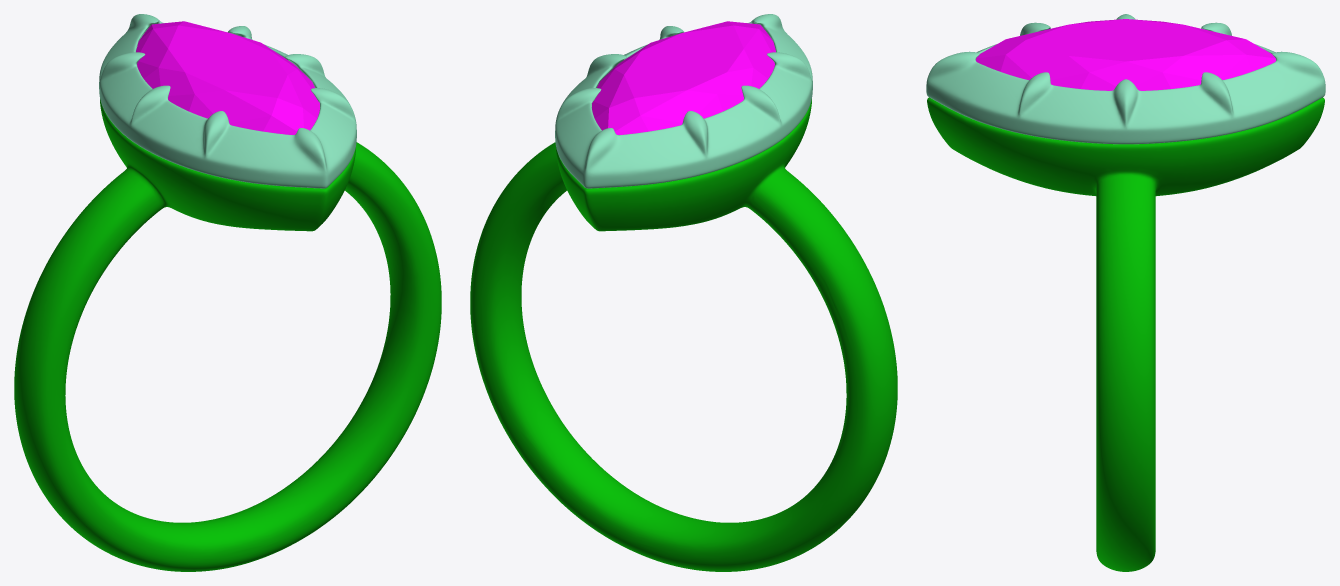
Rendered from BE1727_MQ_200ct_RENDER.glb.
The picture shows the model from 3 angles, left to right: view 1: azimuth 30°, elevation 25°; view 2: azimuth 150°, elevation 25°; view 3: azimuth 270°, elevation 25°; orthographic projection.
Visible parts, largest first — view 1: Metal 01, Metal 02, CS_Diamond_Marquise; view 2: Metal 01, Metal 02, CS_Diamond_Marquise; view 3: Metal 01, Metal 02, CS_Diamond_Marquise.
Part boxes in pixels (bbox=[...]): Metal 01: bbox=[14, 99, 441, 571]; Metal 02: bbox=[99, 14, 356, 188]; CS_Diamond_Marquise: bbox=[136, 21, 319, 134]; Metal 01: bbox=[470, 99, 897, 571]; Metal 02: bbox=[555, 14, 812, 188]; CS_Diamond_Marquise: bbox=[592, 21, 775, 134]; Metal 01: bbox=[927, 97, 1324, 571]; Metal 02: bbox=[926, 14, 1325, 144]; CS_Diamond_Marquise: bbox=[976, 19, 1275, 90].
Bounding box in the file's own units: 20.49 × 23.55 × 16.75.
